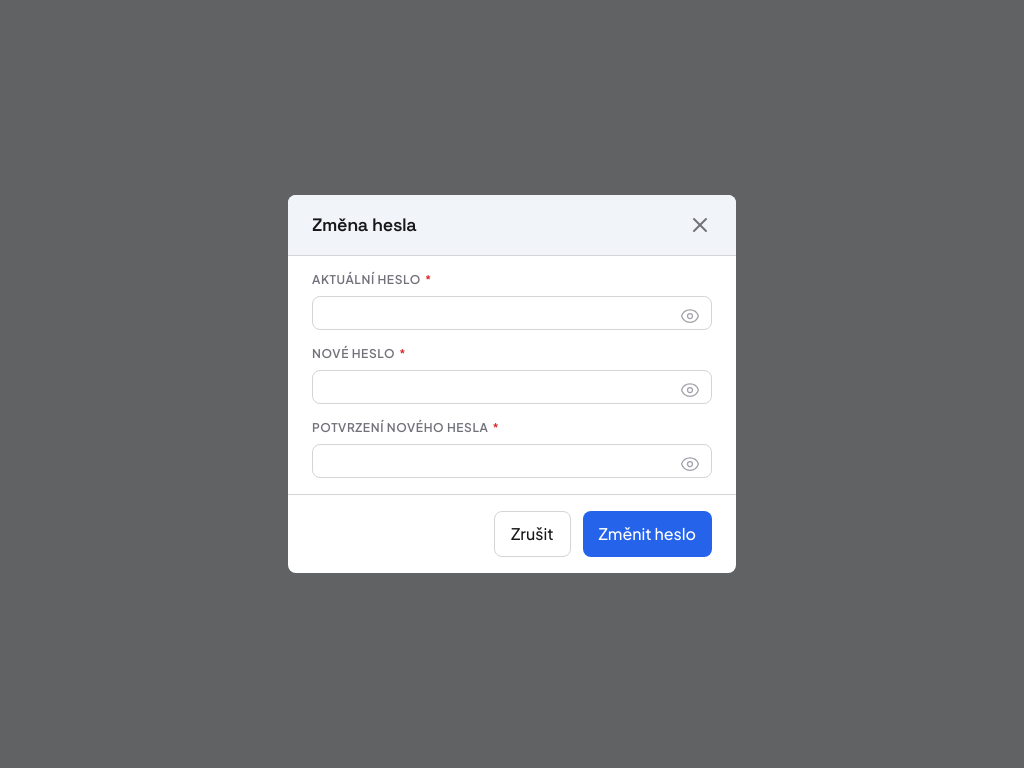
ChangePasswordDialog › server-side error handling › shows server error message inline when mutation fails
Type "WrongPassword1!" into the password field labelled "Aktuální heslo*" at (512, 313), box [312, 296, 712, 330]
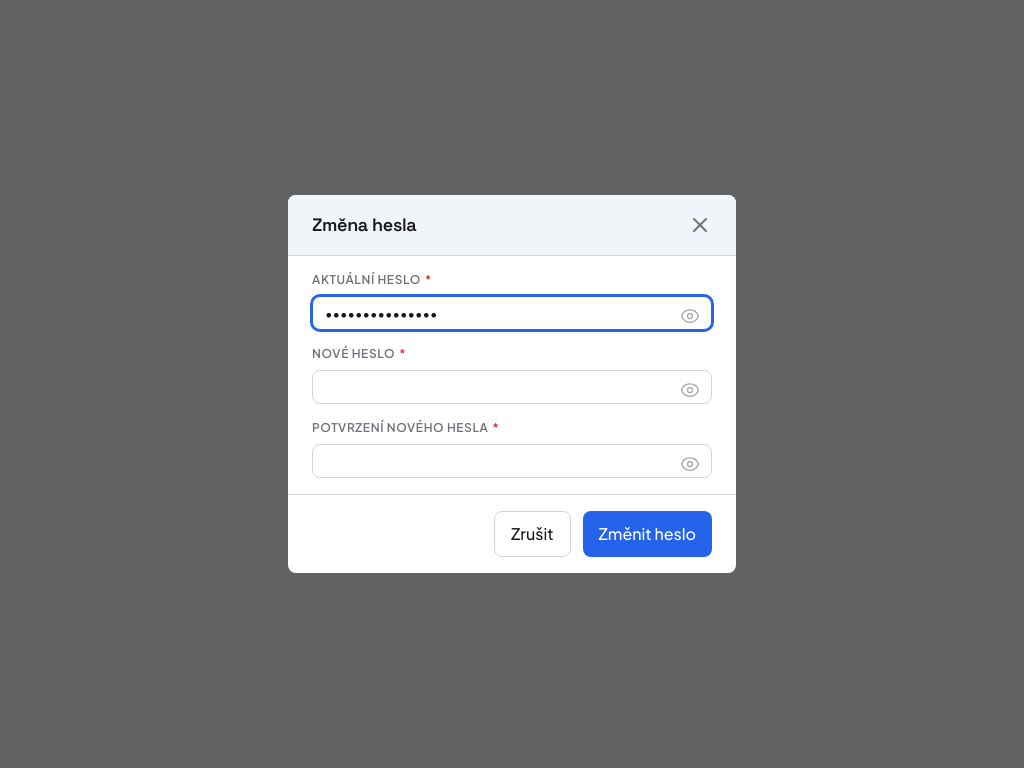
Type "NewStrongPassword1!" into the password field labelled "Nové heslo*" at (512, 387), box [312, 370, 712, 404]
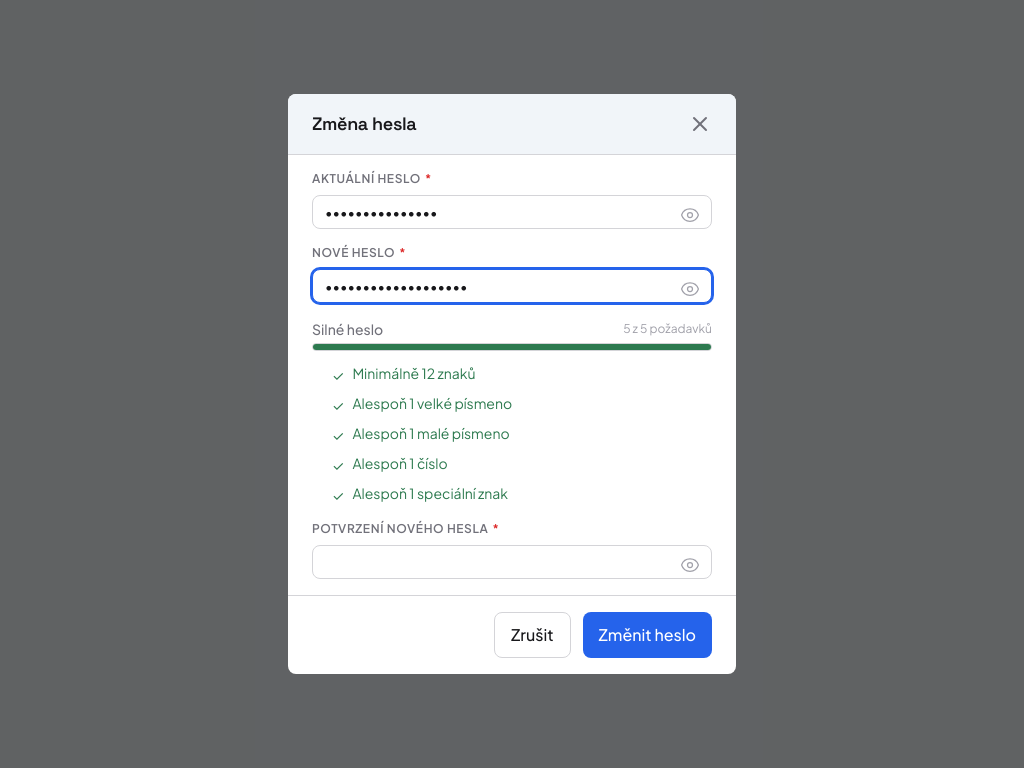
Type "NewStrongPassword1!" into the password field labelled "Potvrzení nového hesla*" at (512, 562), box [312, 545, 712, 579]
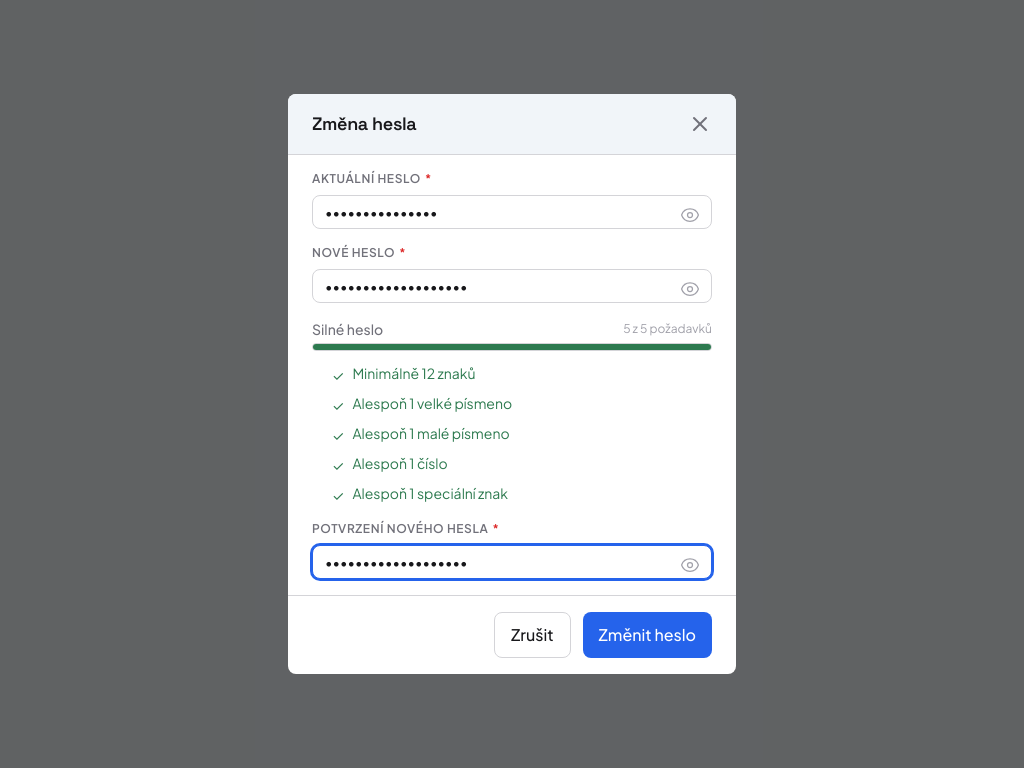
Click the button "Změnit heslo" at (647, 635), box [583, 612, 712, 658]
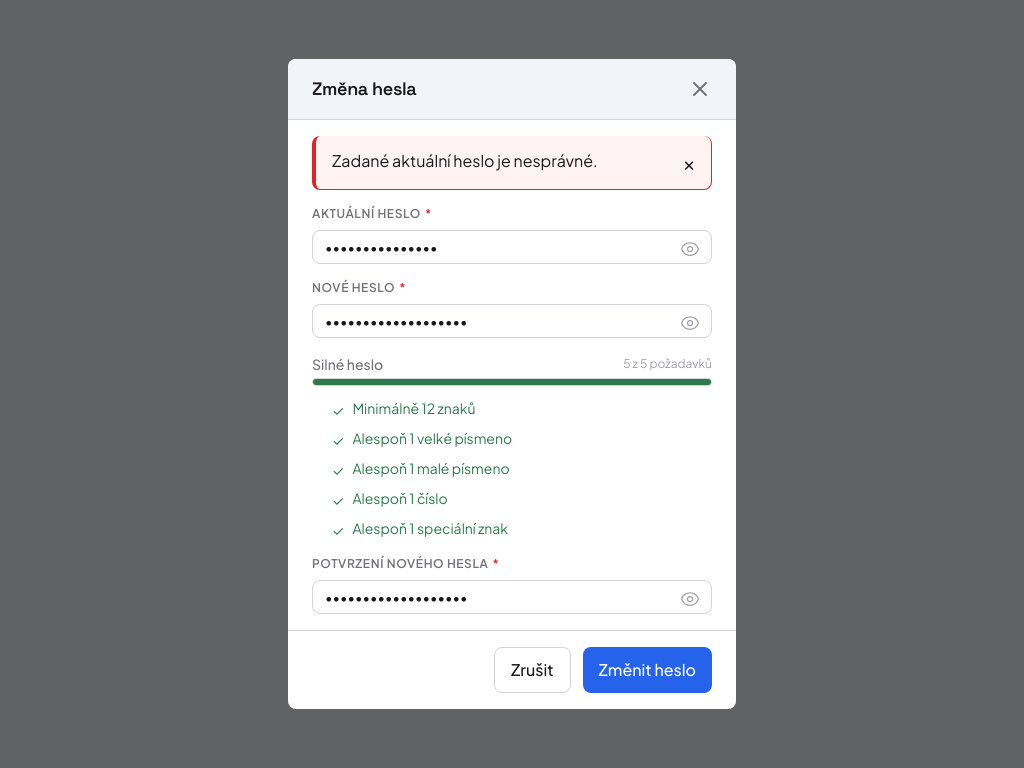
Expected: the text "Zadané aktuální heslo je nesprávné." is shown, [332, 150, 598, 171]
